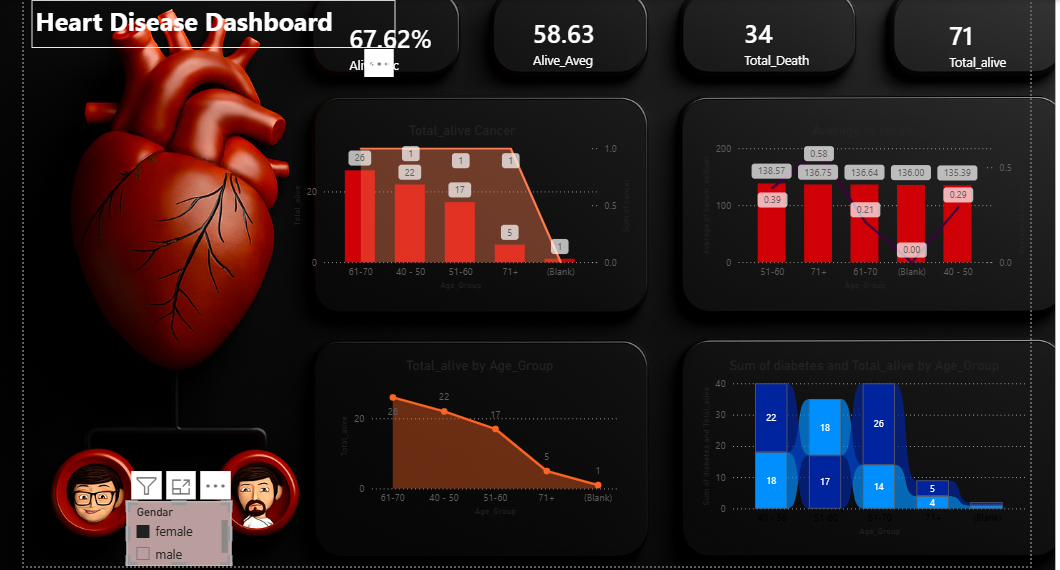

What the dashboard file says about the page in this screenshot:
{"tool":"powerbi","page":{"name":"Page 1","canvas":[1280,720],"ordinal":0},"visuals":[{"type":"textbox","box":[9.9,0,462,60.6],"z":0},{"type":"cardVisual","fields":{"Data":["heart_Disease_clinical_records_.Alive_Prc"]},"box":[384.8,6.4,173.3,108.1],"z":1000},{"type":"cardVisual","fields":{"Data":["heart_Disease_clinical_records_.Alive_Aveg"]},"box":[618.6,0,143.1,108.1],"z":2000},{"type":"lineStackedColumnComboChart","title":"Average of serum","fields":{"Category":["heart_Disease_clinical_records_.Age_Group"],"Y":["Avg(heart_Disease_clinical_records_.serum_sodium)"],"Y2":["Avg(heart_Disease_clinical_records_.DEATH_EVENT)"]},"box":[857.1,155.8,423,217.8],"z":3000},{"type":"cardVisual","fields":{"Data":["heart_Disease_clinical_records_.Total_alive"]},"box":[1148.1,0,132,112.9],"z":4000},{"type":"cardVisual","fields":{"Data":["heart_Disease_clinical_records_.Total_Death"]},"box":[887.3,0,144.7,108.1],"z":5000},{"type":"lineChart","fields":{"Category":["heart_Disease_clinical_records_.Age_Group"],"Y":["heart_Disease_clinical_records_.Total_alive"]},"box":[397.5,454.8,364.1,206.7],"z":6000},{"type":"ribbonChart","fields":{"Category":["heart_Disease_clinical_records_.Age_Group"],"Y":["Sum(heart_Disease_clinical_records_.diabetes)","heart_Disease_clinical_records_.Total_alive"]},"box":[857.1,454.8,423,232.2],"z":7000},{"type":"lineStackedColumnComboChart","title":"Total_alive Cancer ","fields":{"Category":["heart_Disease_clinical_records_.Age_Group"],"Y":["heart_Disease_clinical_records_.Total_alive"],"Y2":["Sum(heart_Disease_clinical_records_.cancer)"]},"box":[337.1,155.8,440.5,217.8],"z":8000},{"type":"slicer","fields":{"Values":["heart_Disease_clinical_records_.Gendar"]},"box":[130.4,637.6,133.6,82.7],"z":9000}]}

Visuals, with their boxes on the page's 1280x720 design canvas (x1, y1, x2, y2). These are canvas units, not pixel positions in the 1060x570 screenshot, which may show the page scaled, cropped or inside an application window:
textbox: pyautogui.locateOnScreen(10, 0, 472, 61)
cardVisual - heart_Disease_clinical_records_.Alive_Prc: pyautogui.locateOnScreen(385, 6, 558, 114)
cardVisual - heart_Disease_clinical_records_.Alive_Aveg: pyautogui.locateOnScreen(619, 0, 762, 108)
"Average of serum" lineStackedColumnComboChart: pyautogui.locateOnScreen(857, 156, 1280, 374)
cardVisual - heart_Disease_clinical_records_.Total_alive: pyautogui.locateOnScreen(1148, 0, 1280, 113)
cardVisual - heart_Disease_clinical_records_.Total_Death: pyautogui.locateOnScreen(887, 0, 1032, 108)
lineChart - heart_Disease_clinical_records_.Age_Group x heart_Disease_clinical_records_.Total_alive: pyautogui.locateOnScreen(398, 455, 762, 662)
ribbonChart - heart_Disease_clinical_records_.Age_Group x Sum(heart_Disease_clinical_records_.diabetes): pyautogui.locateOnScreen(857, 455, 1280, 687)
"Total_alive Cancer " lineStackedColumnComboChart: pyautogui.locateOnScreen(337, 156, 778, 374)
slicer - heart_Disease_clinical_records_.Gendar: pyautogui.locateOnScreen(130, 638, 264, 720)
